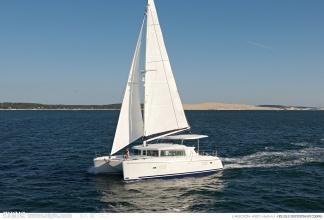fanchuan: (90, 1, 225, 179)
